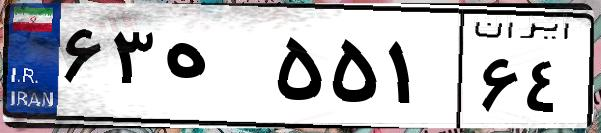1: (385, 28, 445, 110)
3: (110, 28, 158, 98)
4: (525, 38, 570, 115)
5: (270, 28, 330, 110), (330, 28, 385, 110)
6: (57, 26, 110, 100), (475, 38, 525, 113)
ه: (158, 20, 270, 120)
